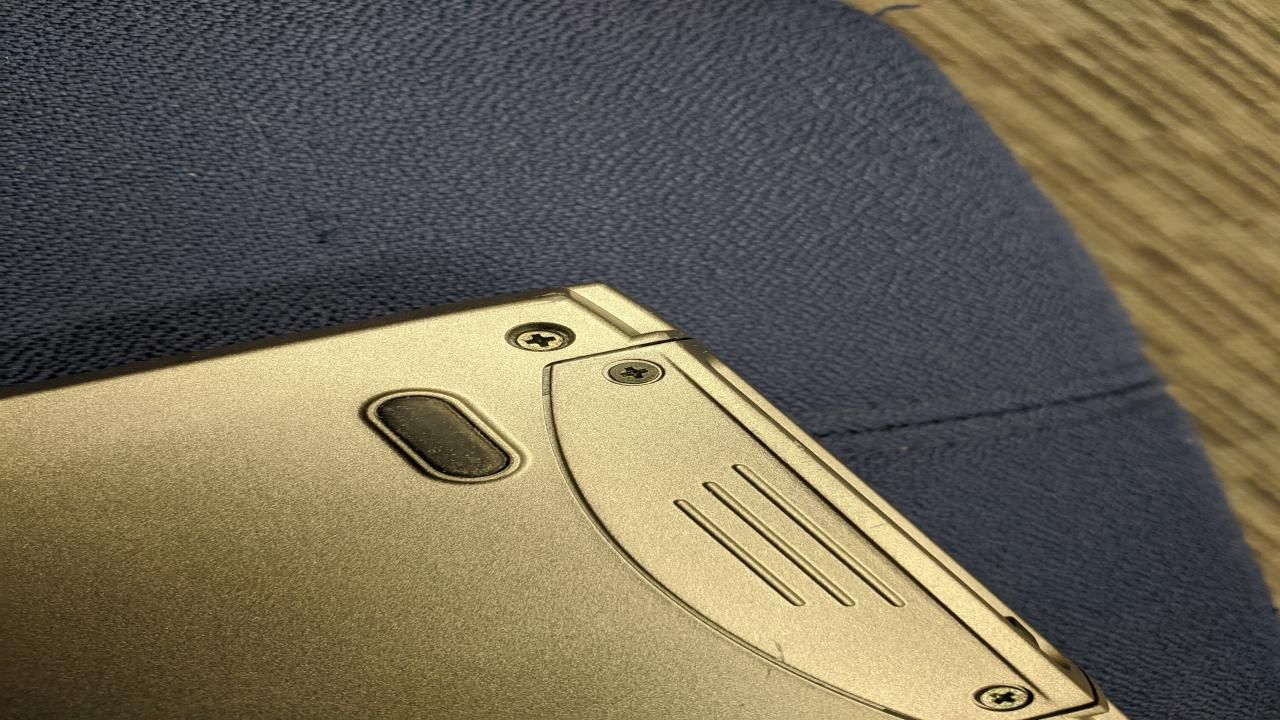CRS: (610, 360, 658, 386), (511, 329, 565, 352), (975, 688, 1031, 710)
